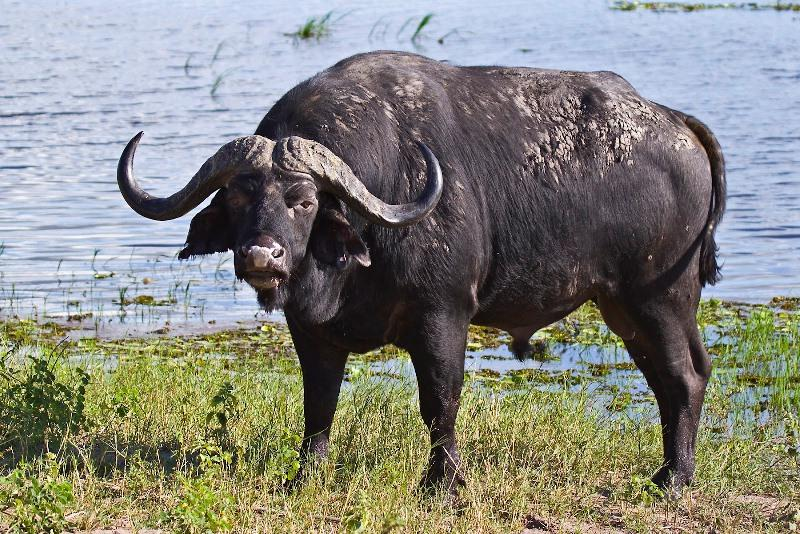Buffalo: (153, 31, 773, 461)
